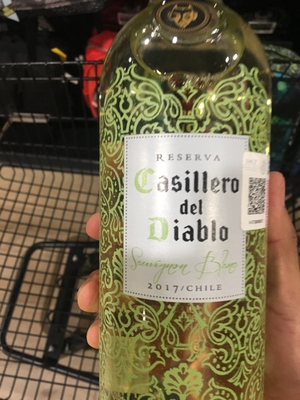casillero del diablo sauvignon blanc: (95, 16, 272, 400)
